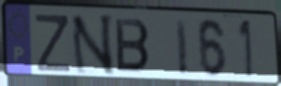1: (237, 18, 256, 82)
6: (198, 17, 230, 79)
B: (114, 16, 153, 75)
I: (174, 17, 191, 78)
N: (69, 13, 116, 77)
Z: (34, 12, 73, 74)
